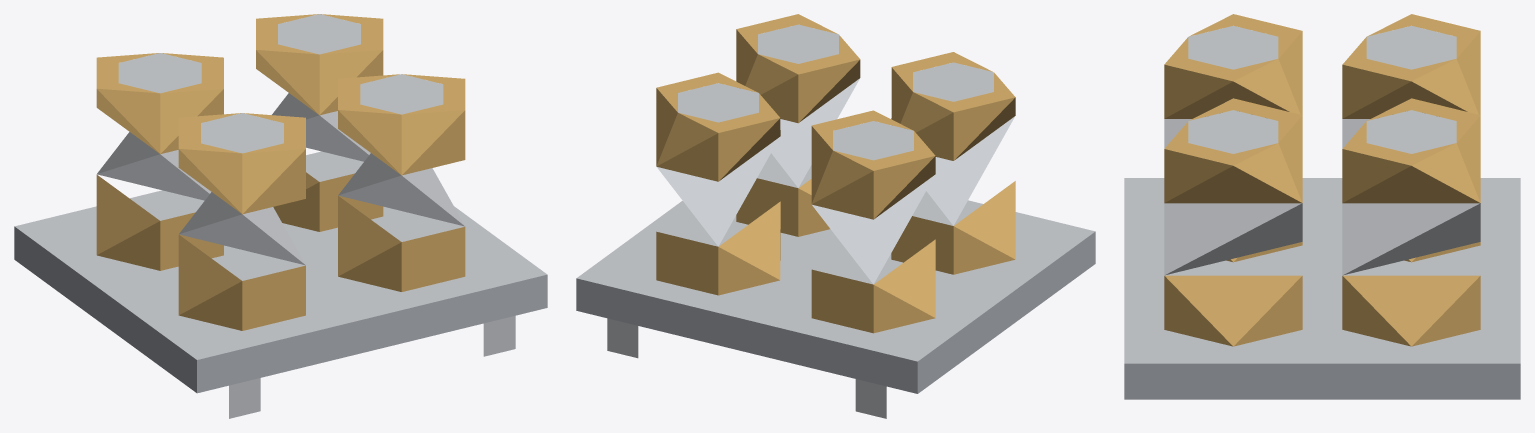
The model's file is barrels.lod.glb.
3 renders of one model, left to right at view 1: azimuth 30°, elevation 25°; view 2: azimuth 150°, elevation 25°; view 3: azimuth 270°, elevation 25°, orthographic. The views are drawn at different scales.
Visible parts, largest first — view 1: barrels, barrel; view 2: barrels, barrel; view 3: barrels, barrel.
Boxes of the visible parts, x1=… form: barrels: x1=14, y1=14, x2=547, y2=418; barrel: x1=96, y1=14, x2=465, y2=330; barrels: x1=576, y1=24, x2=1095, y2=418; barrel: x1=656, y1=14, x2=1015, y2=333; barrels: x1=1124, y1=26, x2=1520, y2=399; barrel: x1=1164, y1=14, x2=1480, y2=346.
Bounding box in the file's own units: 0.55 × 0.35 × 0.4964.
